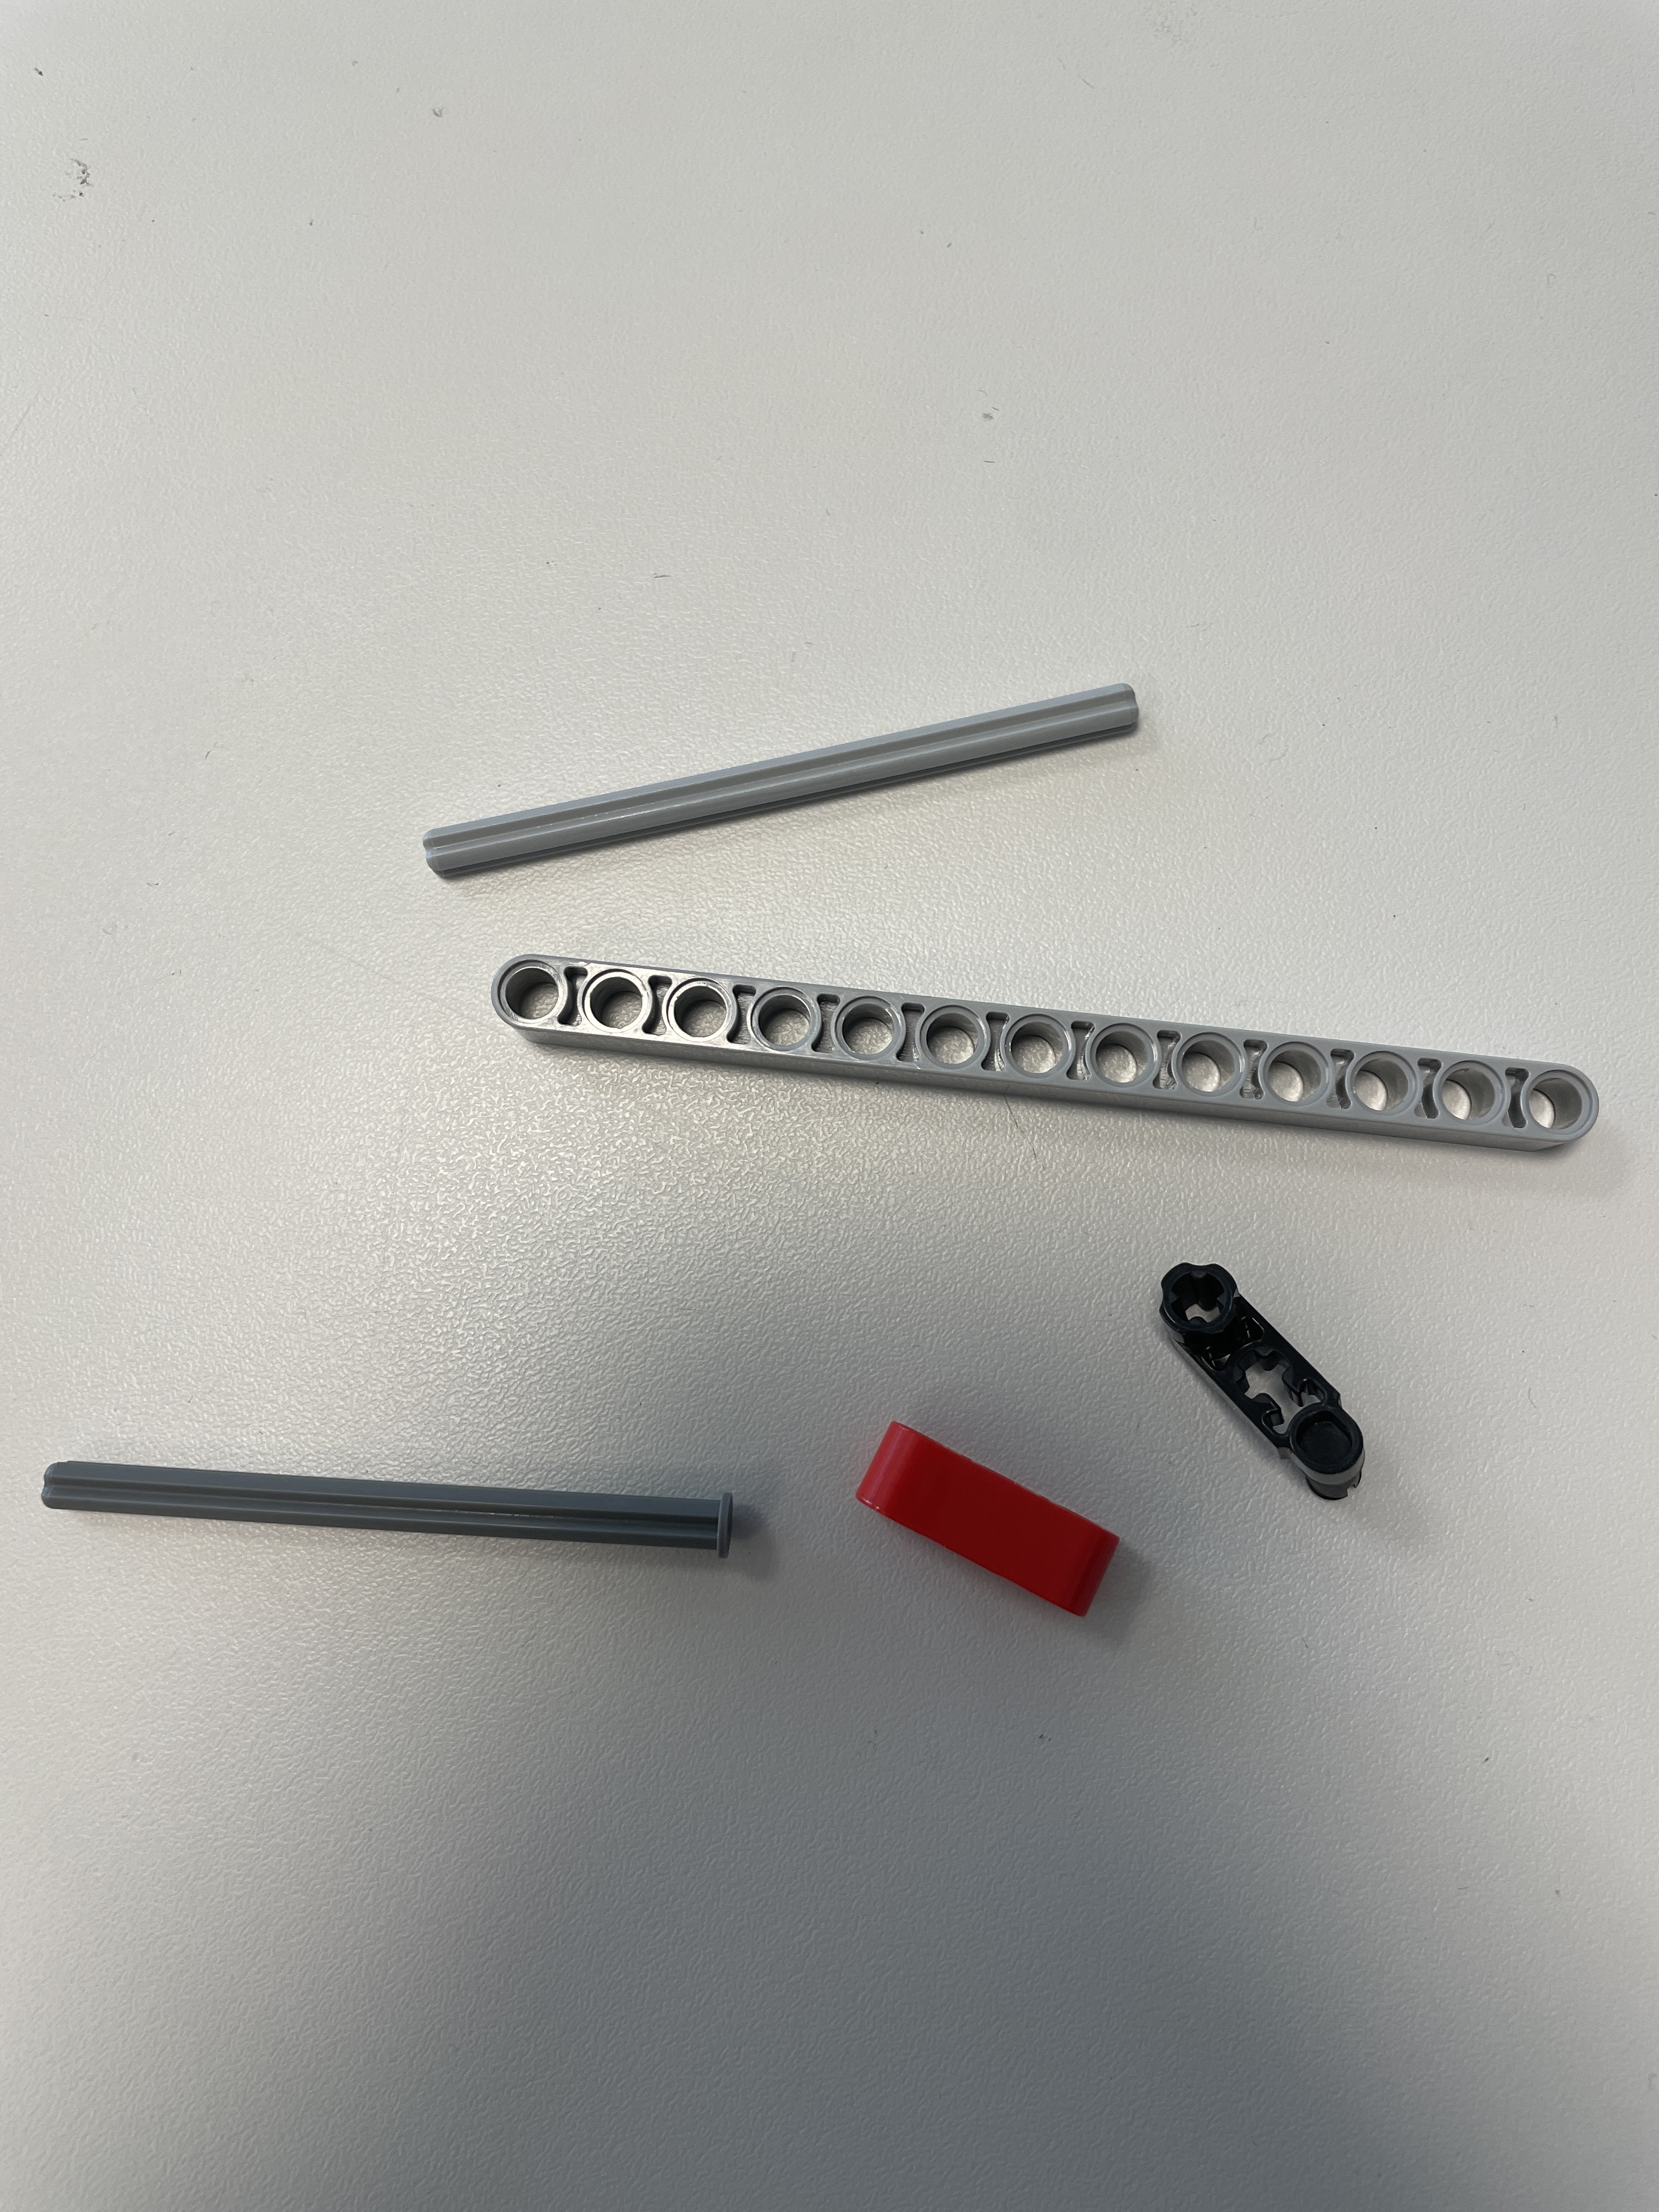13gat: (484, 941, 1608, 1167)
3gat: (843, 1407, 1136, 1627)
plusstaaf: (415, 674, 1143, 892)
plusstaafdicht: (38, 1456, 741, 1566)
verbindstukzwart: (1152, 1252, 1382, 1514)
